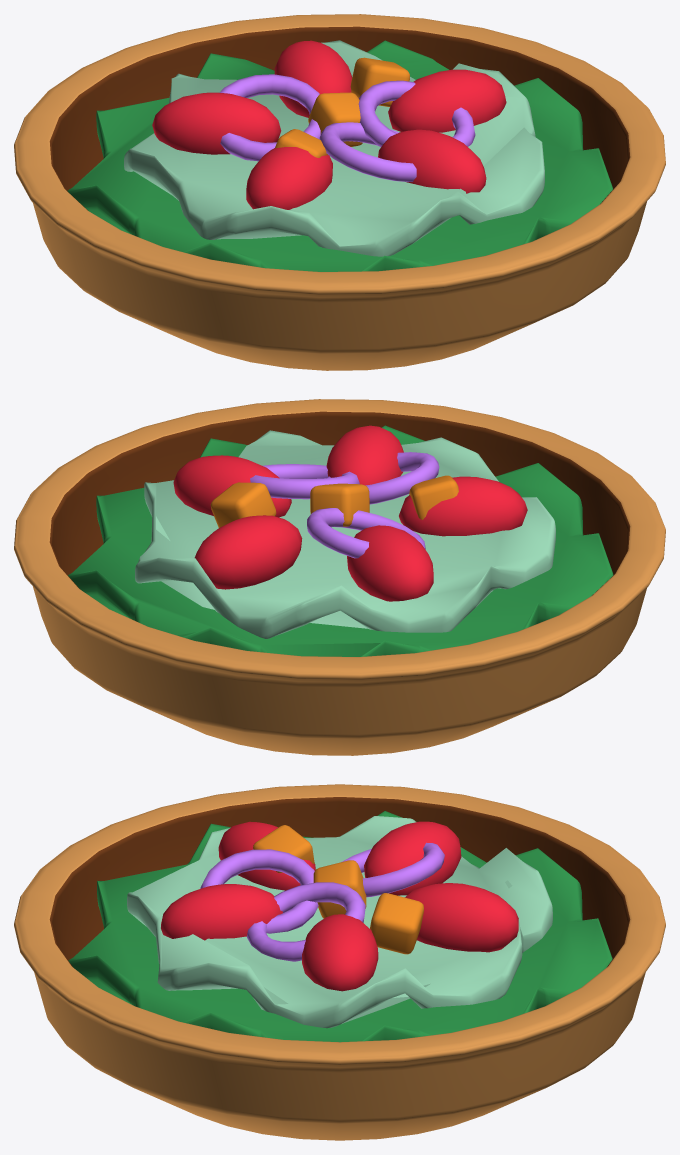
Rendered from salad.glb.
The picture shows the model from 3 angles, top to bottom: view 1: azimuth 30°, elevation 25°; view 2: azimuth 150°, elevation 25°; view 3: azimuth 270°, elevation 25°; orthographic projection.
Visible parts, largest first — view 1: SaladWoodBowl; view 2: SaladWoodBowl; view 3: SaladWoodBowl.
Boxes of the visible parts, x1,y1,x2,y2 form: SaladWoodBowl: [14, 14, 665, 370]; SaladWoodBowl: [14, 399, 665, 755]; SaladWoodBowl: [14, 784, 665, 1140].
Size of the model in its own units: 0.58 by 0.1918 by 0.58.
